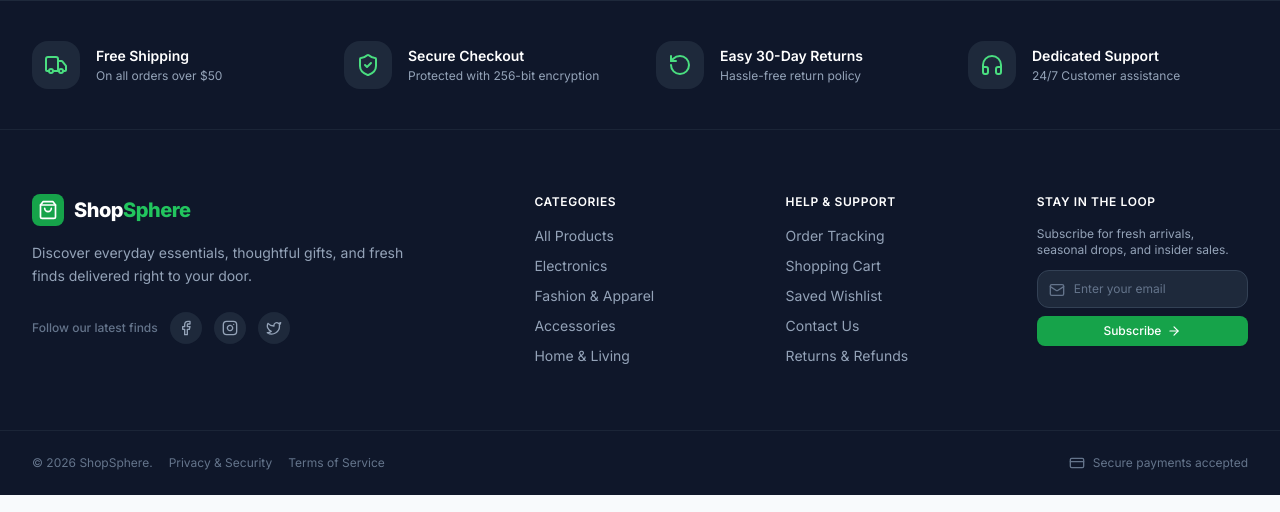
Test: Footer component › handles newsletter subscription submission
Type "learner@example.com" into the field with placeholder "Enter your email" at x=1142, y=289, box [1037,270,1248,308]
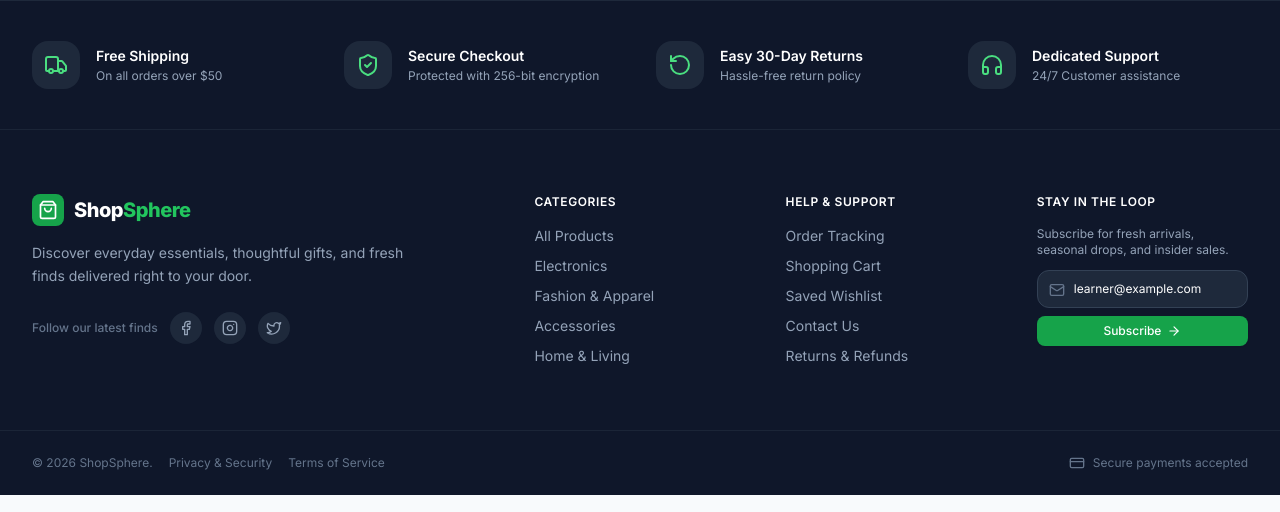
Click the button "Subscribe" at x=1142, y=331, box [1037,316,1248,346]
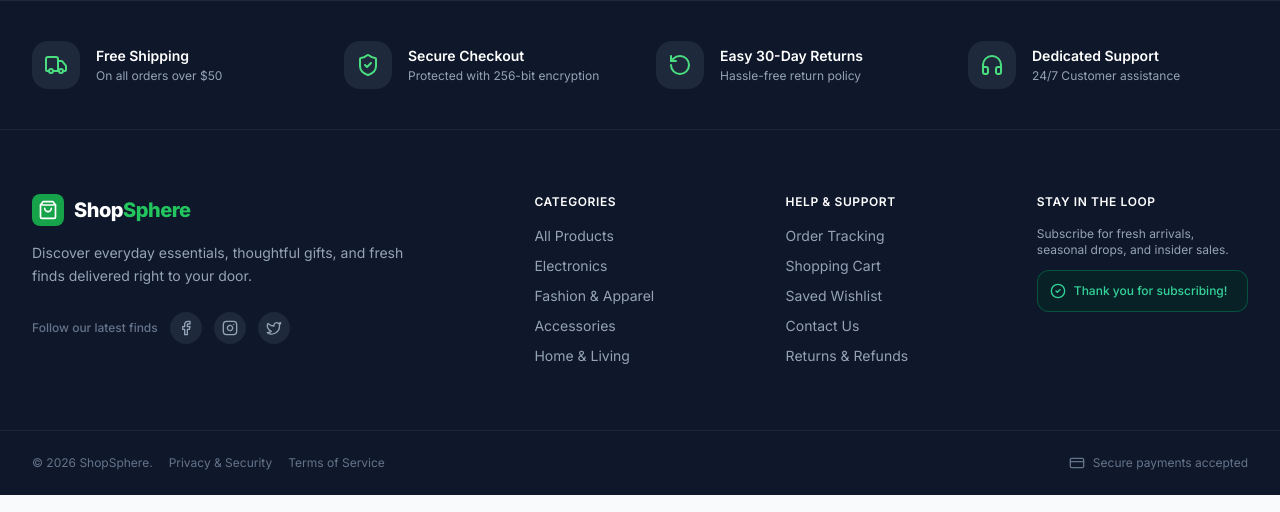
Check: the text "Thank you for subscribing!" is shown, box [1074,283,1228,299]
